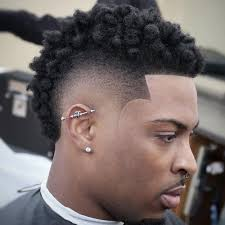black_male: (47, 11, 216, 225)
